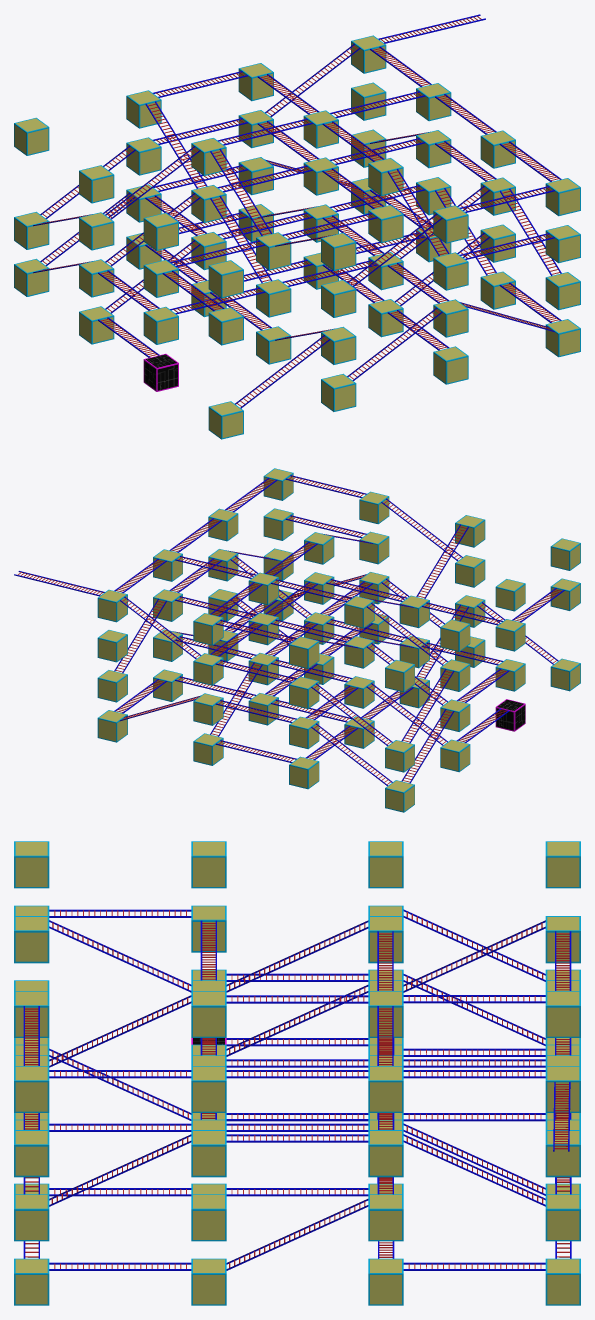
Rendered from liti.fbx.
3 views of the same model, one above another, from view 1: azimuth 30°, elevation 25°; view 2: azimuth 150°, elevation 25°; view 3: azimuth 270°, elevation 25° (orthographic). The views are drawn at different scales.
Parts seen in each view (by area): view 1: mian, kuang, polySurface379, pasted__polySurface907, pasted__polySurface887, pasted__polySurface85, pasted__polySurface898, pasted__polySurface904, pasted__polySurface336, pasted__polySurface885, pasted__polySurface875, tizizuihou (+4 smaller); view 2: mian, kuang, polySurface379, pasted__polySurface906, pasted__polySurface869, pasted__polySurface867, pasted__polySurface900, pasted__polySurface877, pasted__polySurface868, pasted__polySurface73, pasted__polySurface866, pasted__polySurface875 (+3 smaller); view 3: mian, kuang, pasted__polySurface889, pasted__polySurface894, pasted__polySurface896, pasted__polySurface908, pasted__polySurface456, pasted__polySurface898, pasted__polySurface890, pasted__polySurface907, pasted__polySurface906, pasted__polySurface900 (+28 smaller).
Part boxes in pixels (x1,y1,x2,y2): mian: [14, 36, 579, 437]; kuang: [14, 35, 580, 439]; polySurface379: [144, 354, 177, 390]; pasted__polySurface907: [210, 148, 272, 235]; pasted__polySurface887: [210, 195, 272, 282]; pasted__polySurface85: [387, 169, 449, 256]; pasted__polySurface898: [145, 101, 207, 188]; pasted__polySurface904: [500, 188, 561, 275]; pasted__polySurface336: [347, 213, 442, 286]; pasted__polySurface885: [347, 307, 442, 380]; pasted__polySurface875: [105, 146, 200, 219]; tizizuihou: [235, 335, 330, 408]; mian: [98, 469, 580, 811]; kuang: [97, 468, 580, 812]; polySurface379: [496, 699, 525, 730]; pasted__polySurface906: [416, 524, 468, 598]; pasted__polySurface869: [401, 668, 454, 743]; pasted__polySurface867: [401, 709, 454, 783]; pasted__polySurface900: [114, 598, 166, 672]; pasted__polySurface877: [210, 662, 262, 736]; pasted__polySurface868: [311, 683, 392, 745]; pasted__polySurface73: [120, 596, 200, 658]; pasted__polySurface866: [311, 723, 392, 785]; pasted__polySurface875: [366, 603, 447, 665]; mian: [15, 842, 579, 1304]; kuang: [14, 841, 580, 1305]; pasted__polySurface889: [403, 1059, 545, 1067]; pasted__polySurface894: [226, 1134, 368, 1142]; pasted__polySurface896: [226, 1059, 368, 1067]; pasted__polySurface908: [226, 995, 368, 1003]; pasted__polySurface456: [553, 1082, 570, 1151]; pasted__polySurface898: [403, 920, 545, 992]; pasted__polySurface890: [226, 1199, 368, 1270]; pasted__polySurface907: [226, 920, 368, 992]; pasted__polySurface906: [49, 920, 191, 992]; pasted__polySurface900: [403, 1134, 545, 1206].
Bounding box in the file's own units: 114 × 38.74 × 88.55.
6 materials, 1 textured.
